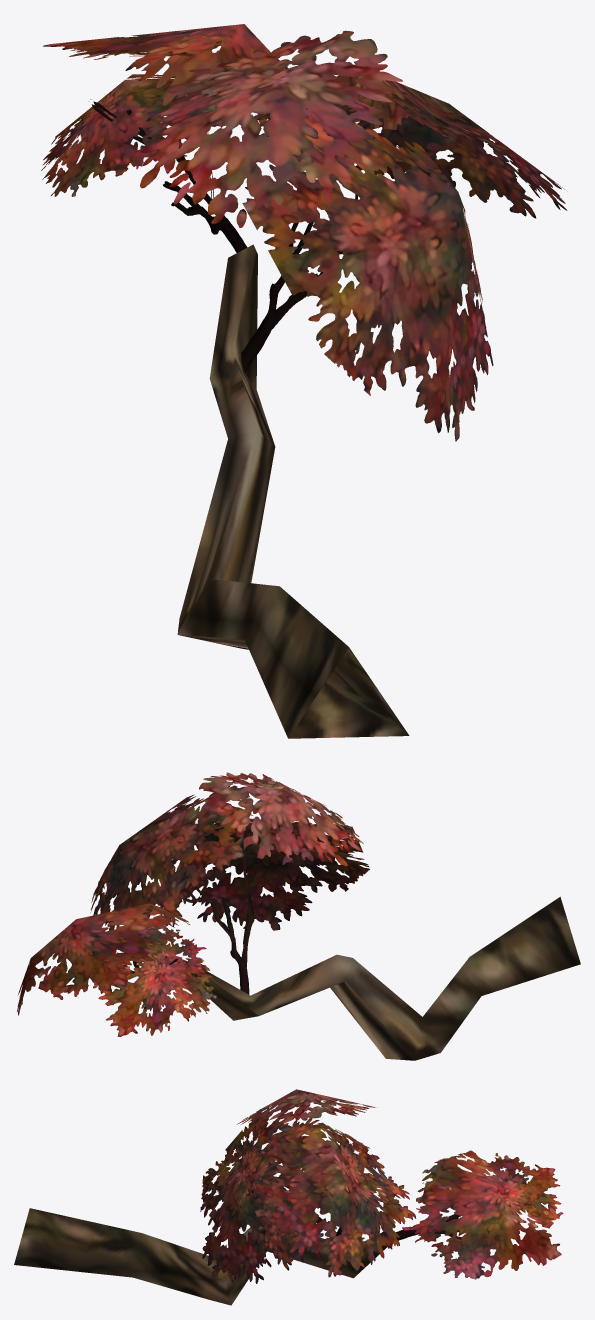
File: FOL_TreeCherryBranchA.FBX
3 views of the same model, one above another, from view 1: azimuth 30°, elevation 25°; view 2: azimuth 150°, elevation 25°; view 3: azimuth 270°, elevation 25° (orthographic). The views are drawn at different scales.
Parts seen in each view (by area): view 1: FOL_TreeCherryBranchA; view 2: FOL_TreeCherryBranchA; view 3: FOL_TreeCherryBranchA.
Boxes of the visible parts, bbox=[...] form: FOL_TreeCherryBranchA: bbox=[41, 24, 567, 738]; FOL_TreeCherryBranchA: bbox=[17, 772, 580, 1060]; FOL_TreeCherryBranchA: bbox=[14, 1089, 563, 1305].
Size of the model in its own units: 1023 by 873 by 1827.
1 material, 1 textured.
